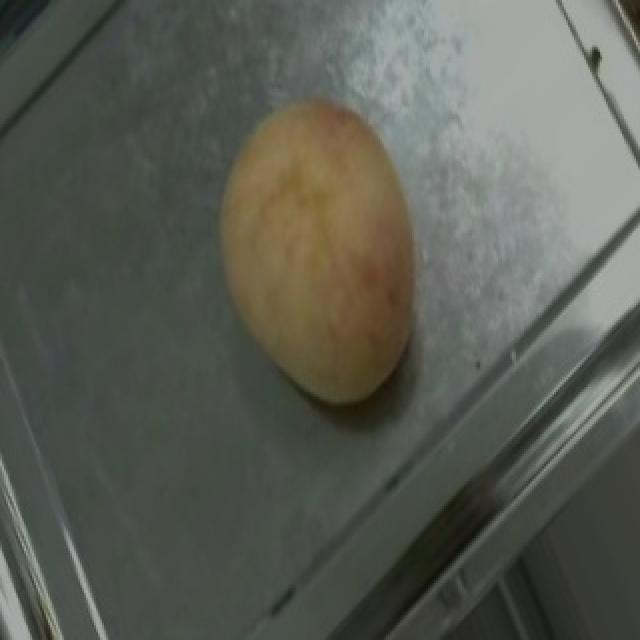Fruit: (168, 55, 472, 439)
